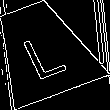L_NW: (15, 21, 70, 79)
